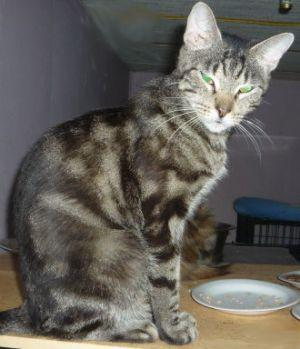bengal: (167, 1, 300, 140)
